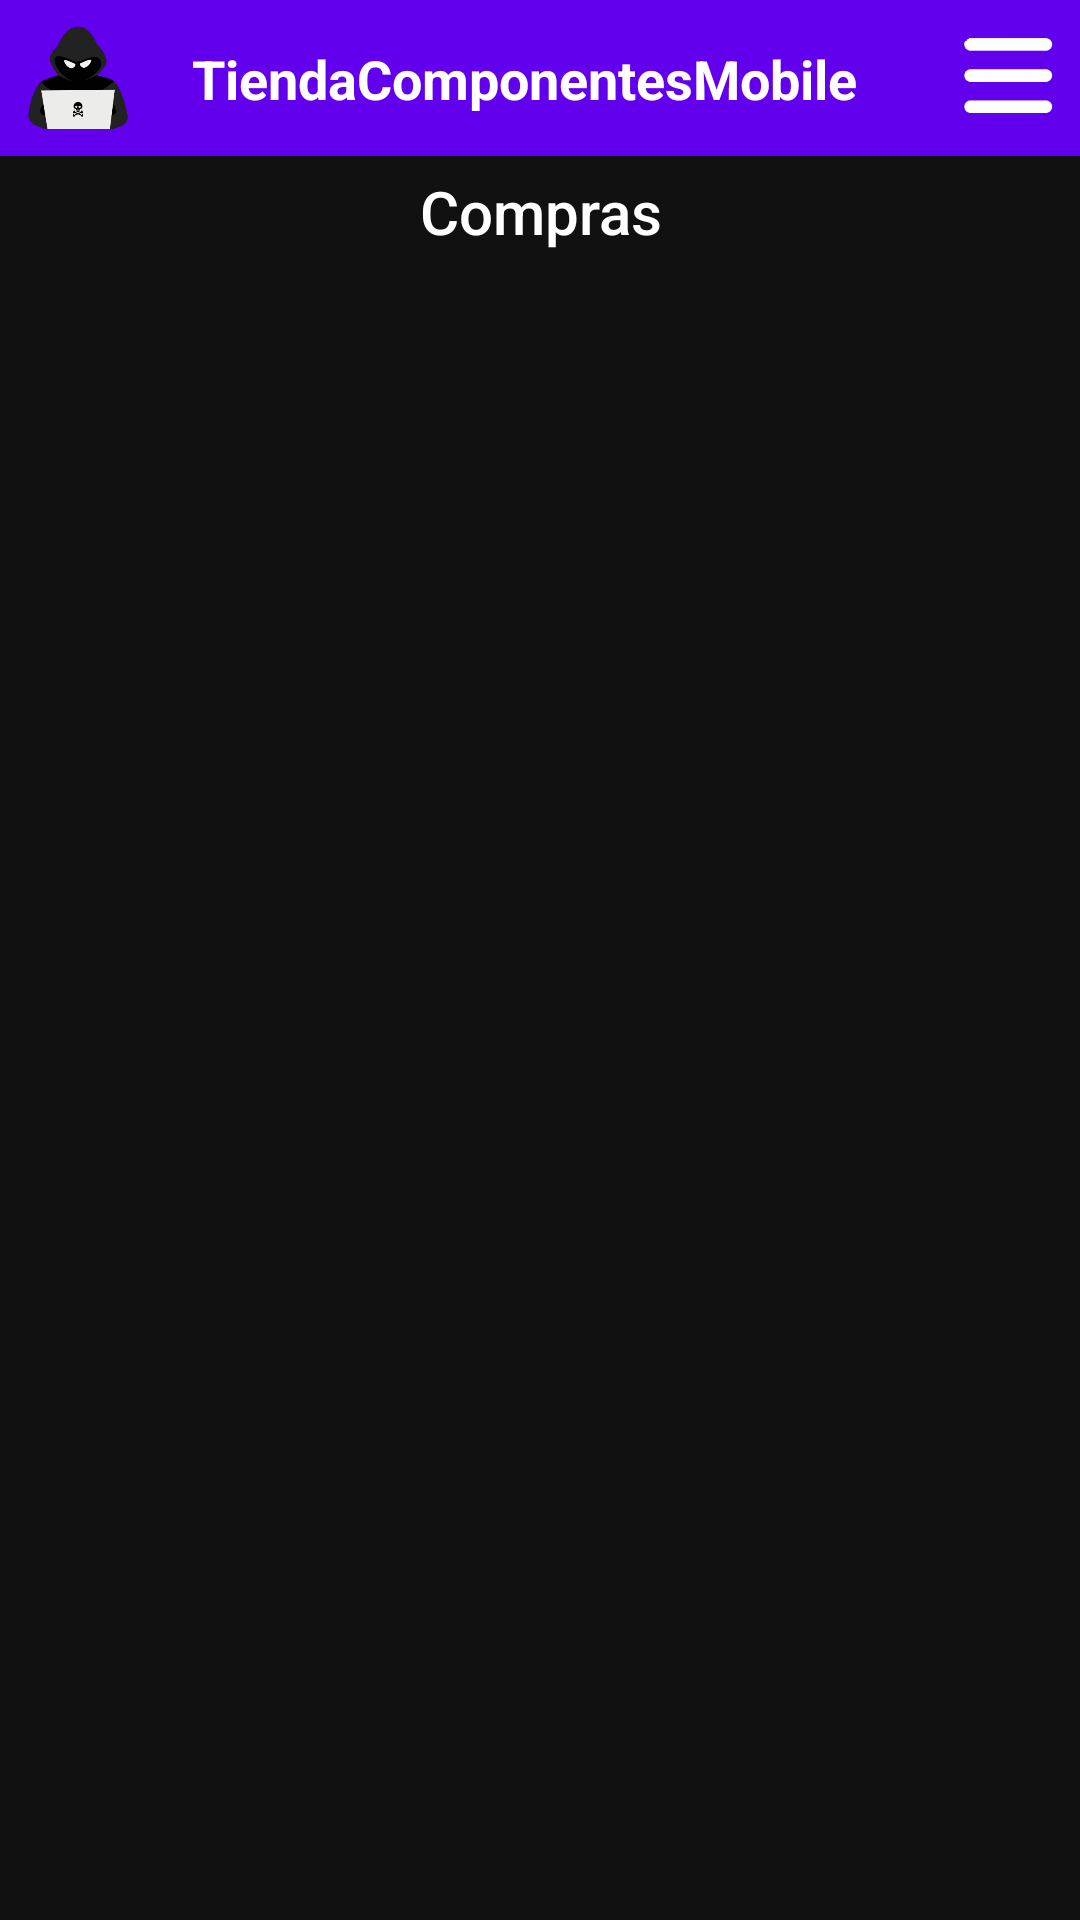

Screen size 1080px x 1920px. Icon name, then its center in pixels as (x=x, y=y):
hamburguesa: (x=1008, y=75)
